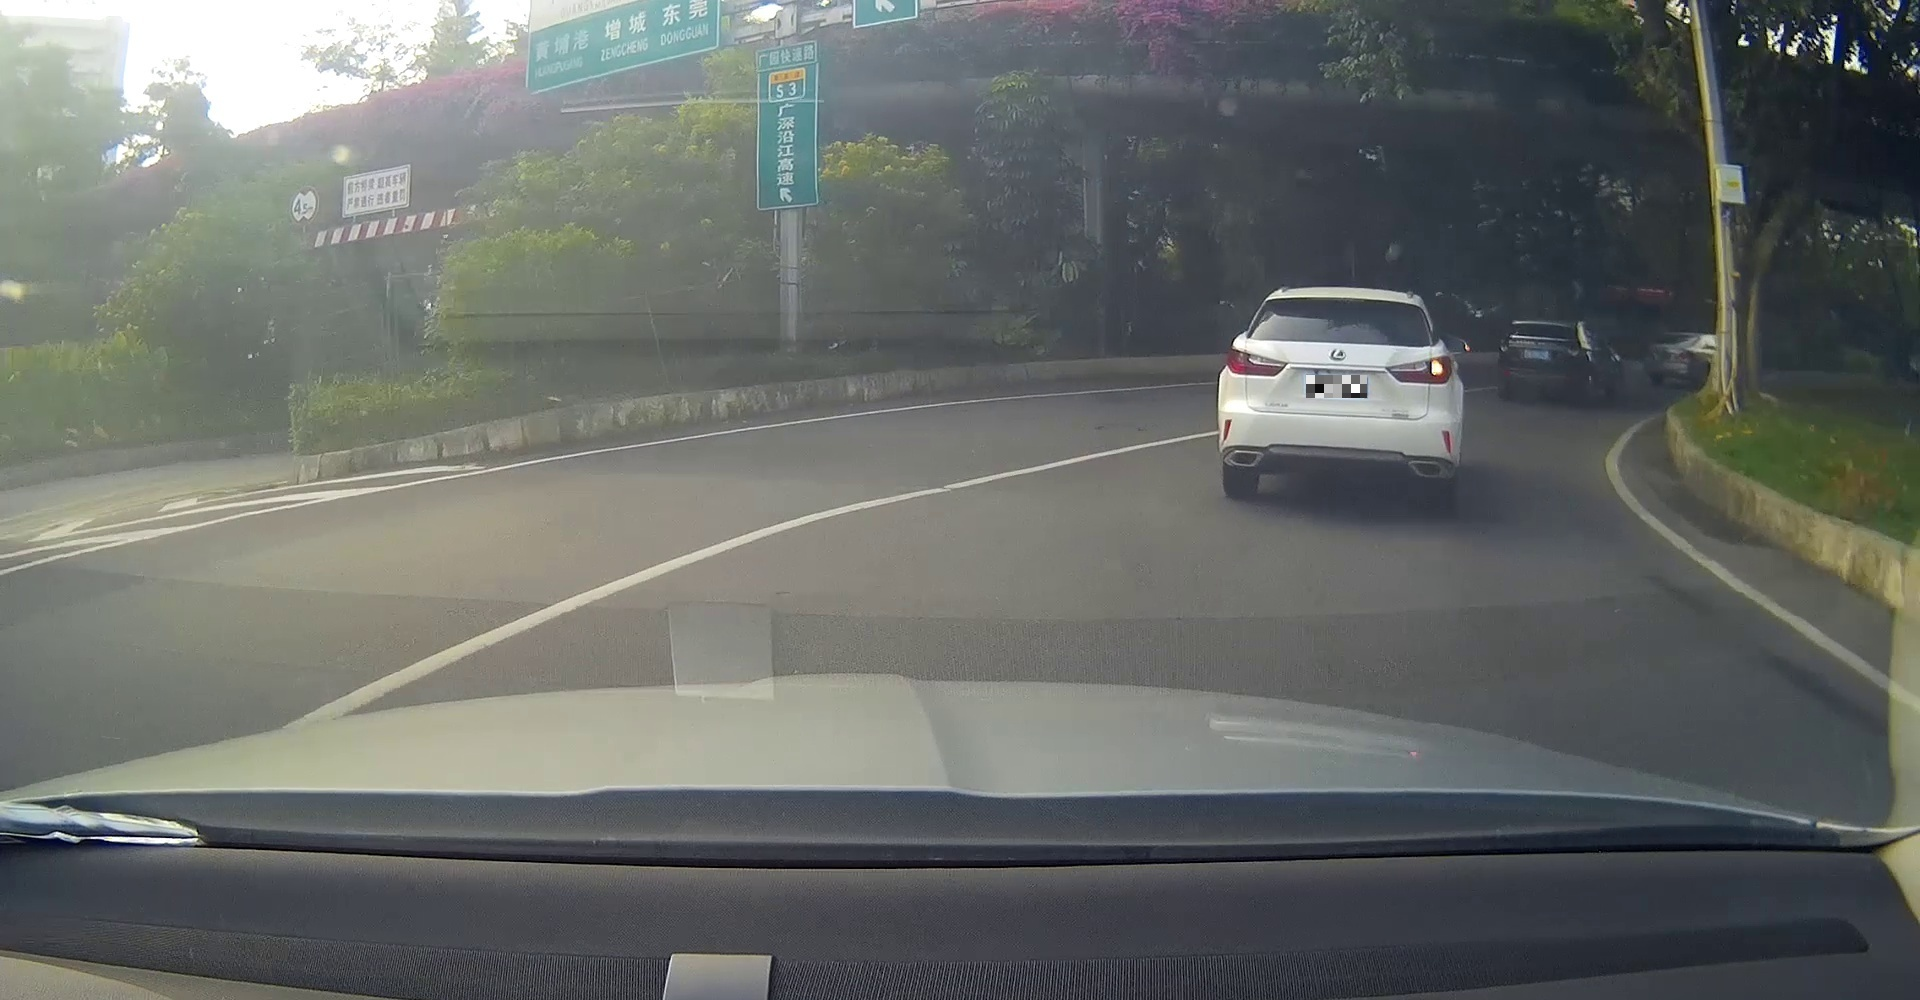L_light: (1225, 346, 1288, 377)
R_light: (1385, 355, 1451, 385)
T_light: (1324, 298, 1357, 306)
day-right: (1218, 291, 1463, 505)
plate_1: (1305, 376, 1368, 398)
